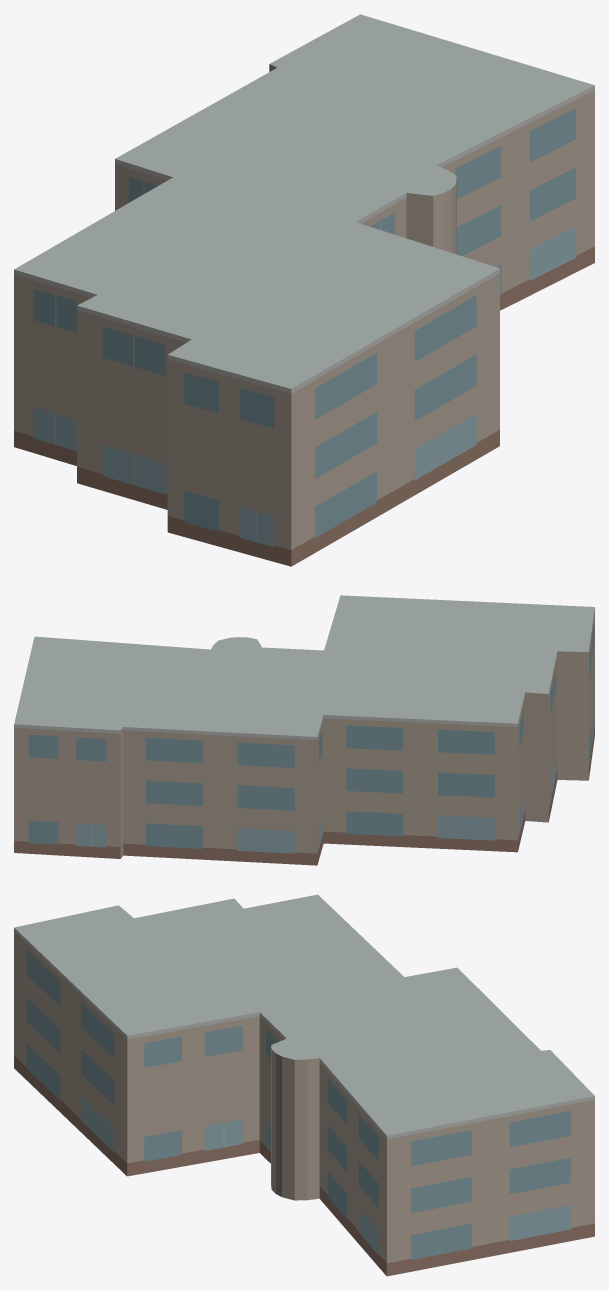
File: survey-upis-32970624.glb
The picture shows the model from 3 angles, top to bottom: view 1: azimuth 30°, elevation 25°; view 2: azimuth 150°, elevation 25°; view 3: azimuth 270°, elevation 25°; orthographic projection. The views are drawn at different scales.
Visible parts, largest first — view 1: survey-upis-32970624.tmp; view 2: survey-upis-32970624.tmp; view 3: survey-upis-32970624.tmp.
Part boxes in pixels (x1=…): survey-upis-32970624.tmp: x1=14, y1=14, x2=594, y2=566; survey-upis-32970624.tmp: x1=14, y1=595, x2=594, y2=865; survey-upis-32970624.tmp: x1=14, y1=894, x2=594, y2=1276.
Bounding box in the file's own units: 33.67 × 9.15 × 34.25.
